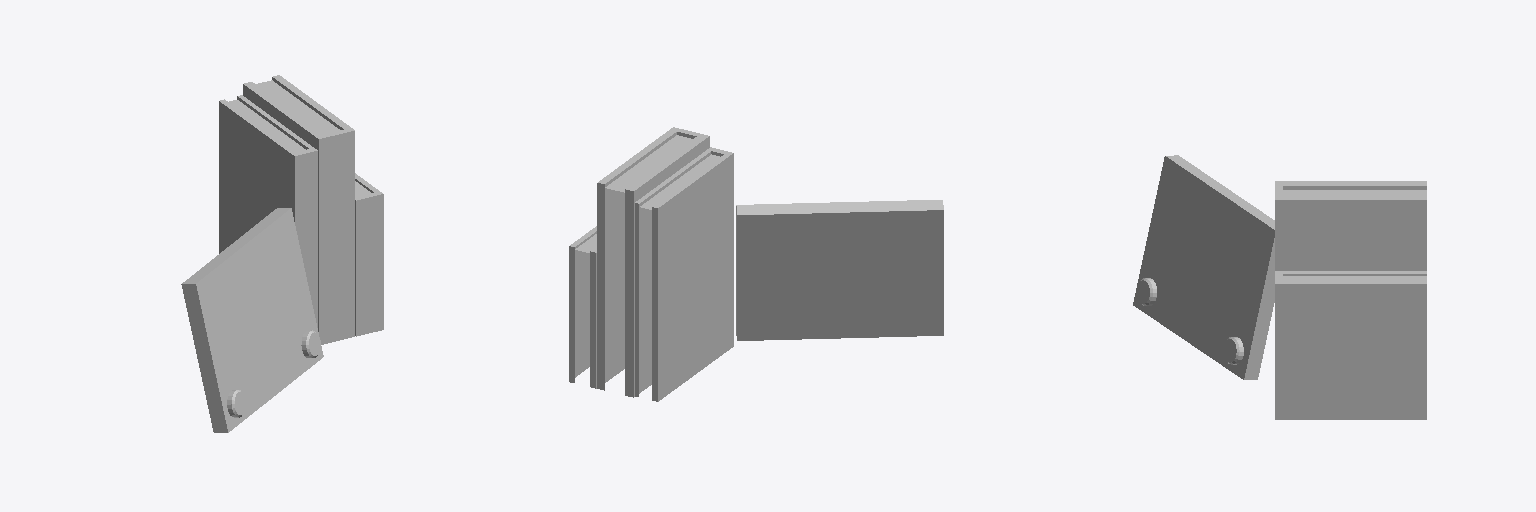
The model's file is books.obj.
The picture shows the model from 3 angles: view 1: azimuth 30°, elevation 25°; view 2: azimuth 150°, elevation 25°; view 3: azimuth 270°, elevation 25°; orthographic projection.
Visible parts, largest first — view 1: polySurface31 polySurface34 books_polySurface1, books_Organizer books_pasted__pCube1 books_polySurface2 polySurf; view 2: polySurface31 polySurface34 books_polySurface1, books_Organizer books_pasted__pCube1 books_polySurface2 polySurf; view 3: books_Organizer books_pasted__pCube1 books_polySurface2 polySurf, polySurface31 polySurface34 books_polySurface1.
Boxes of the visible parts, x1,y1,x2,y2 form: polySurface31 polySurface34 books_polySurface1: [182, 77, 383, 432]; books_Organizer books_pasted__pCube1 books_polySurface2 polySurf: [181, 75, 382, 432]; polySurface31 polySurface34 books_polySurface1: [575, 132, 943, 401]; books_Organizer books_pasted__pCube1 books_polySurface2 polySurf: [569, 127, 736, 401]; books_Organizer books_pasted__pCube1 books_polySurface2 polySurf: [1136, 181, 1426, 419]; polySurface31 polySurface34 books_polySurface1: [1133, 155, 1426, 379].
Bounding box in the file's own units: 22.61 × 17.87 × 23.01.